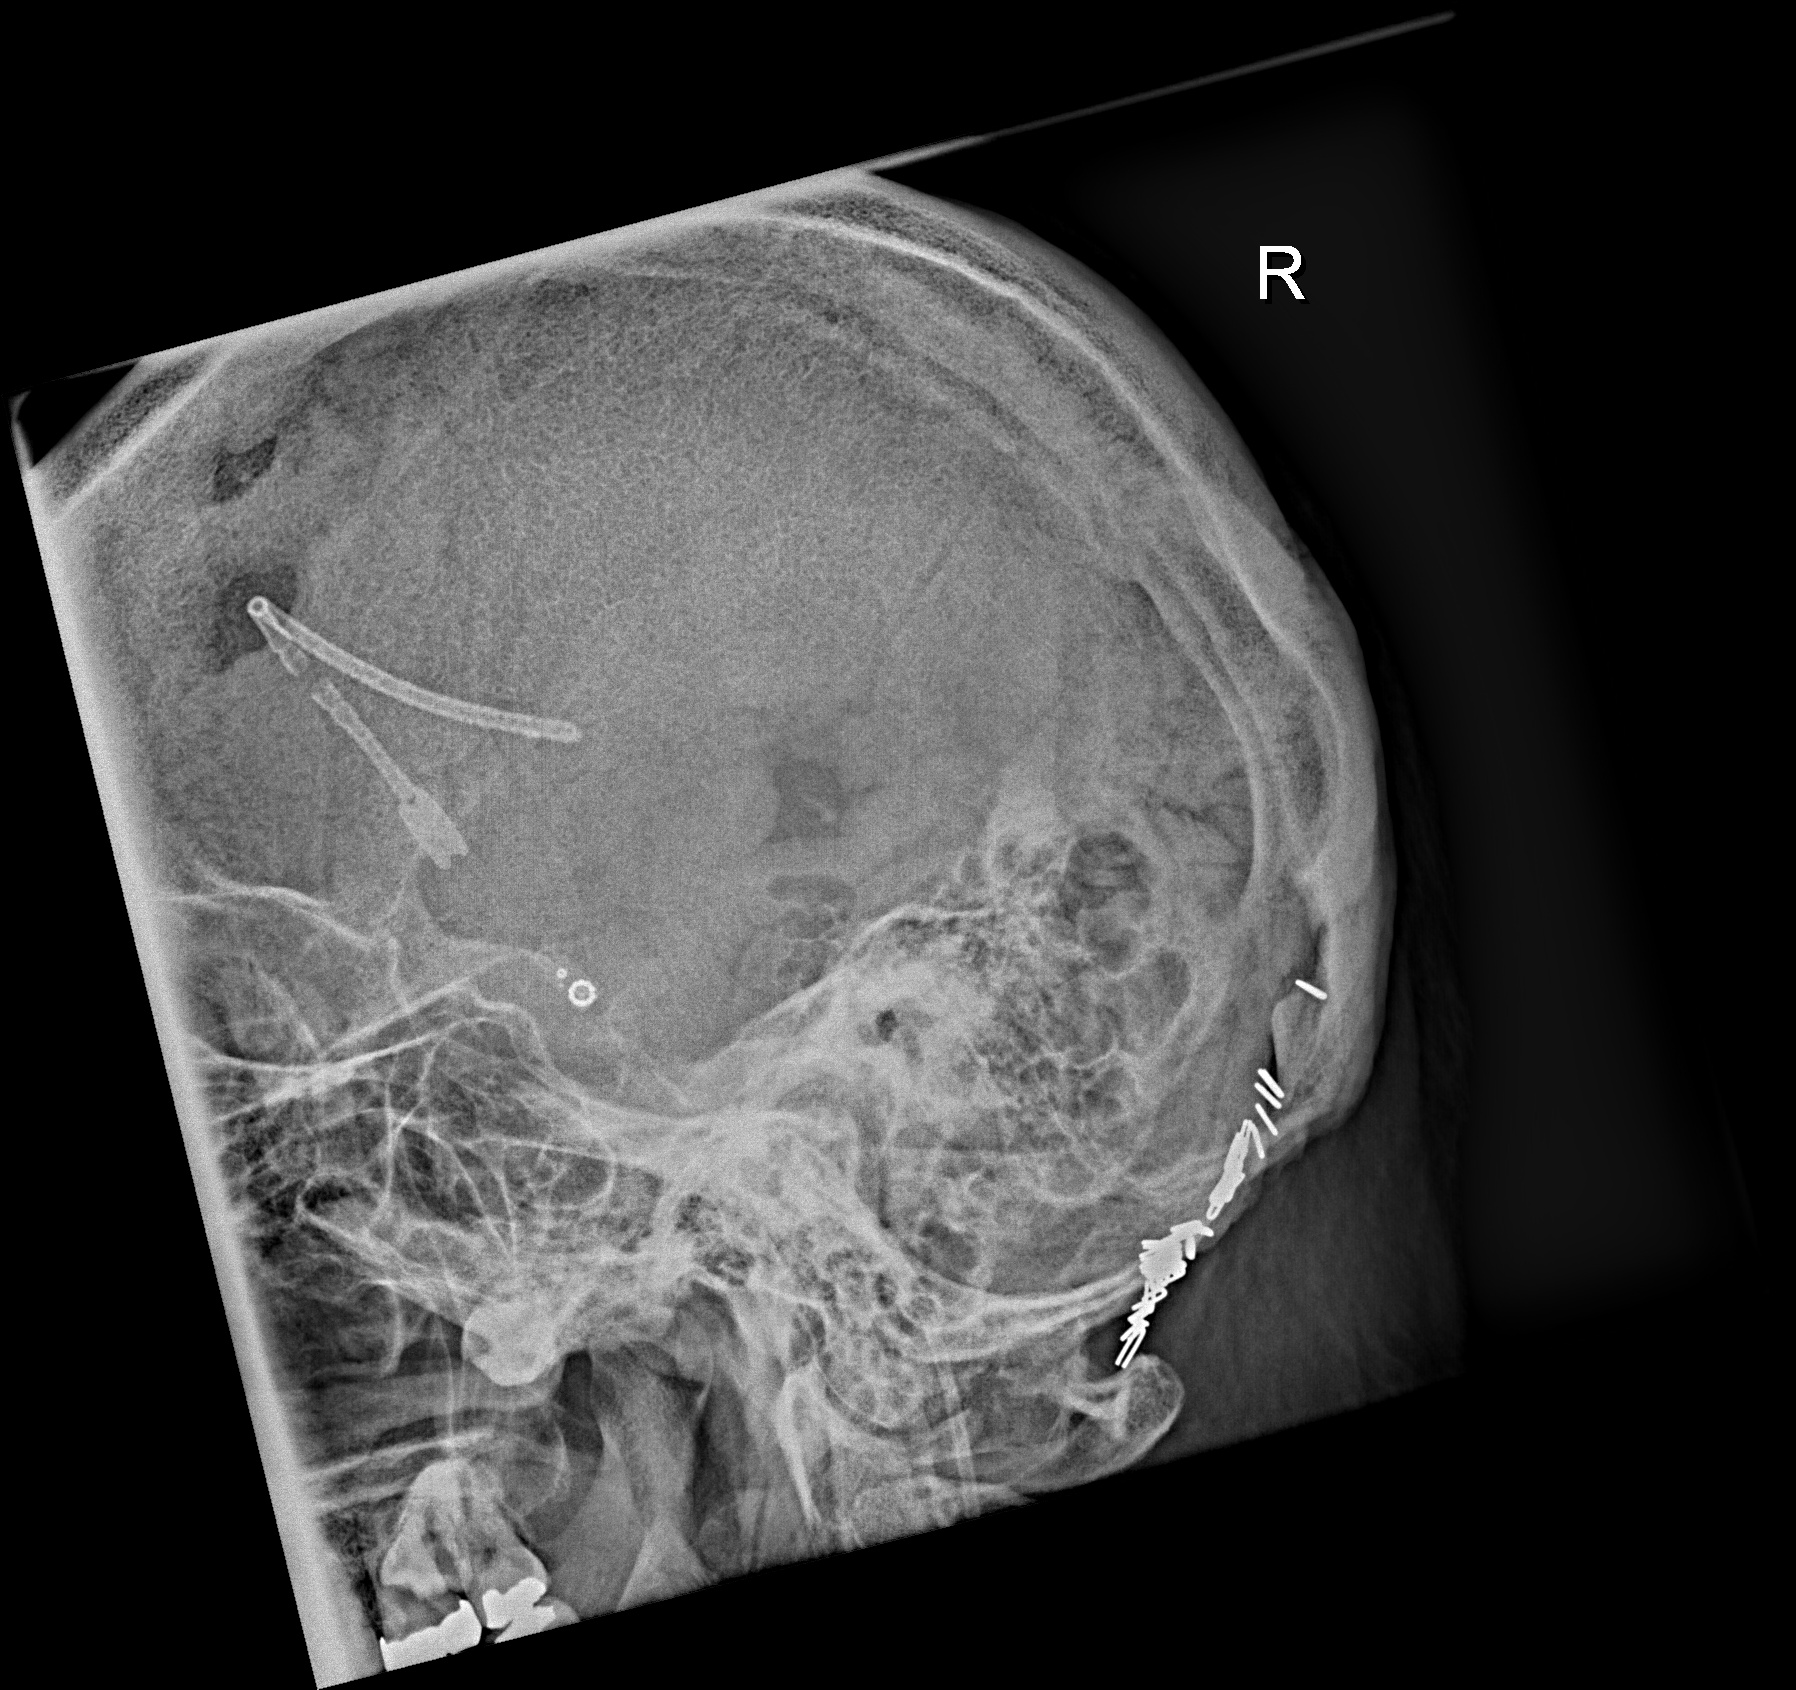Codman Hakim: (540, 955, 605, 1023)
